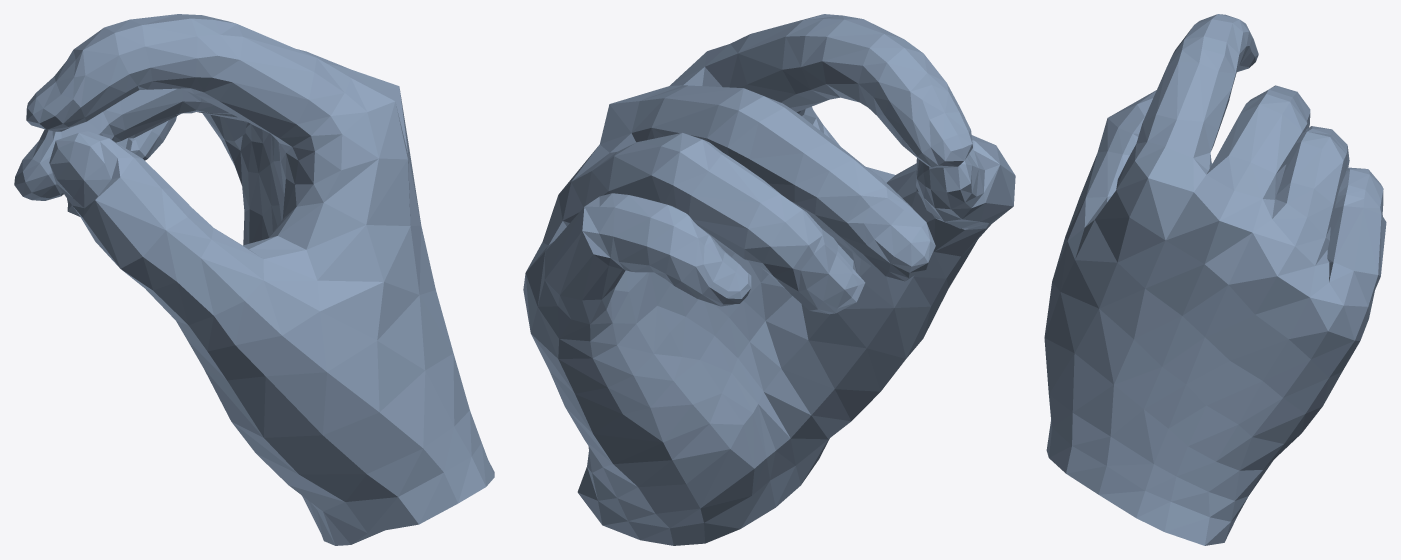
3 views of the same model, side by side, from view 1: azimuth 30°, elevation 25°; view 2: azimuth 150°, elevation 25°; view 3: azimuth 270°, elevation 25° (orthographic). The views are drawn at different scales.
Size of the model in its own units: 0.1095 by 0.139 by 0.1007.
